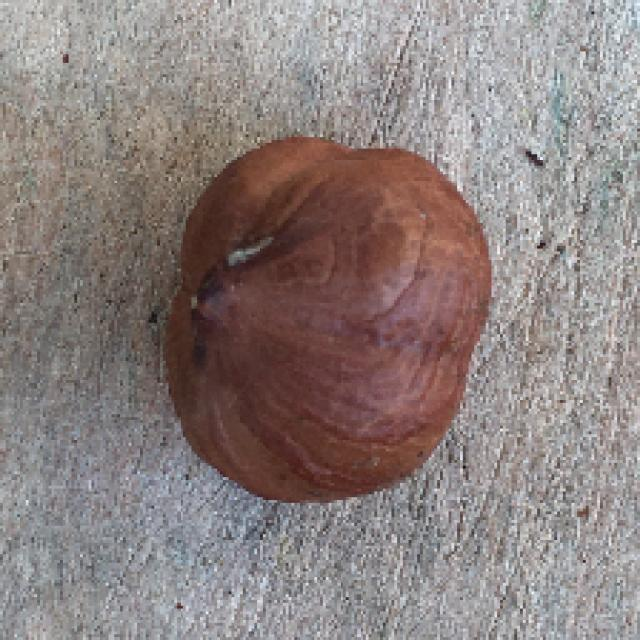hazelnut: (157, 132, 492, 517)
